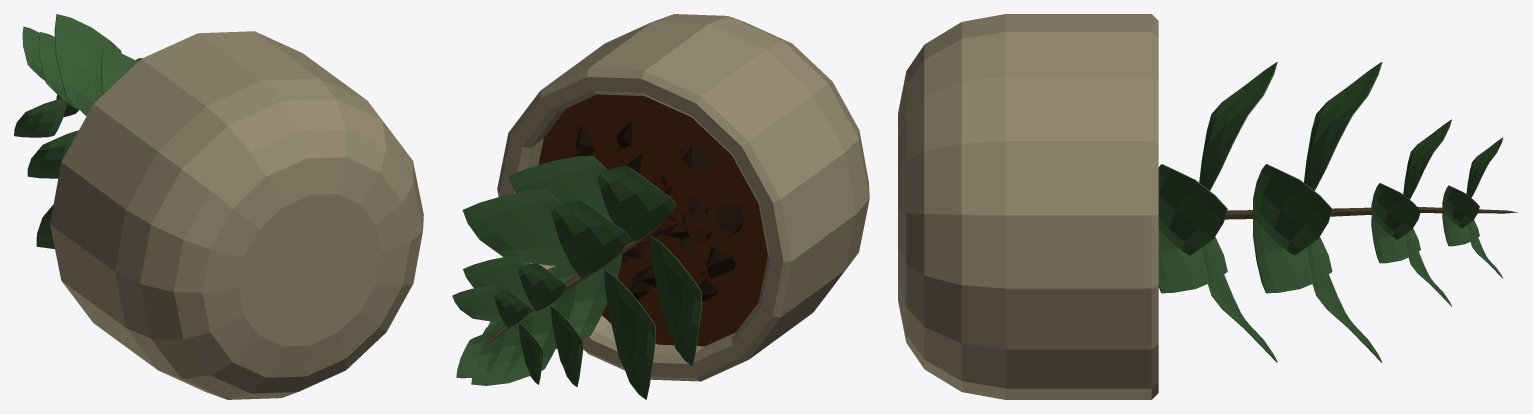
Rendered from HousePlant.fbx.
The picture shows the model from 3 angles, left to right: view 1: azimuth 30°, elevation 25°; view 2: azimuth 150°, elevation 25°; view 3: azimuth 270°, elevation 25°; orthographic projection. The views are drawn at different scales.
Parts seen in each view (by area): view 1: HousePlant; view 2: HousePlant; view 3: HousePlant.
Part boxes in pixels (left/top/right/bottom): HousePlant: left=14, top=14, right=423, bottom=399; HousePlant: left=452, top=14, right=869, bottom=399; HousePlant: left=898, top=14, right=1518, bottom=399.
Bounding box in the file's own units: 0.5042 × 0.3137 × 0.3137.
